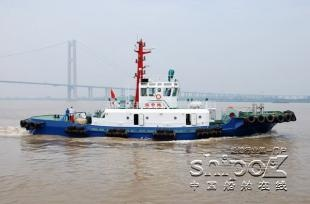otherboat: (20, 37, 302, 141)
